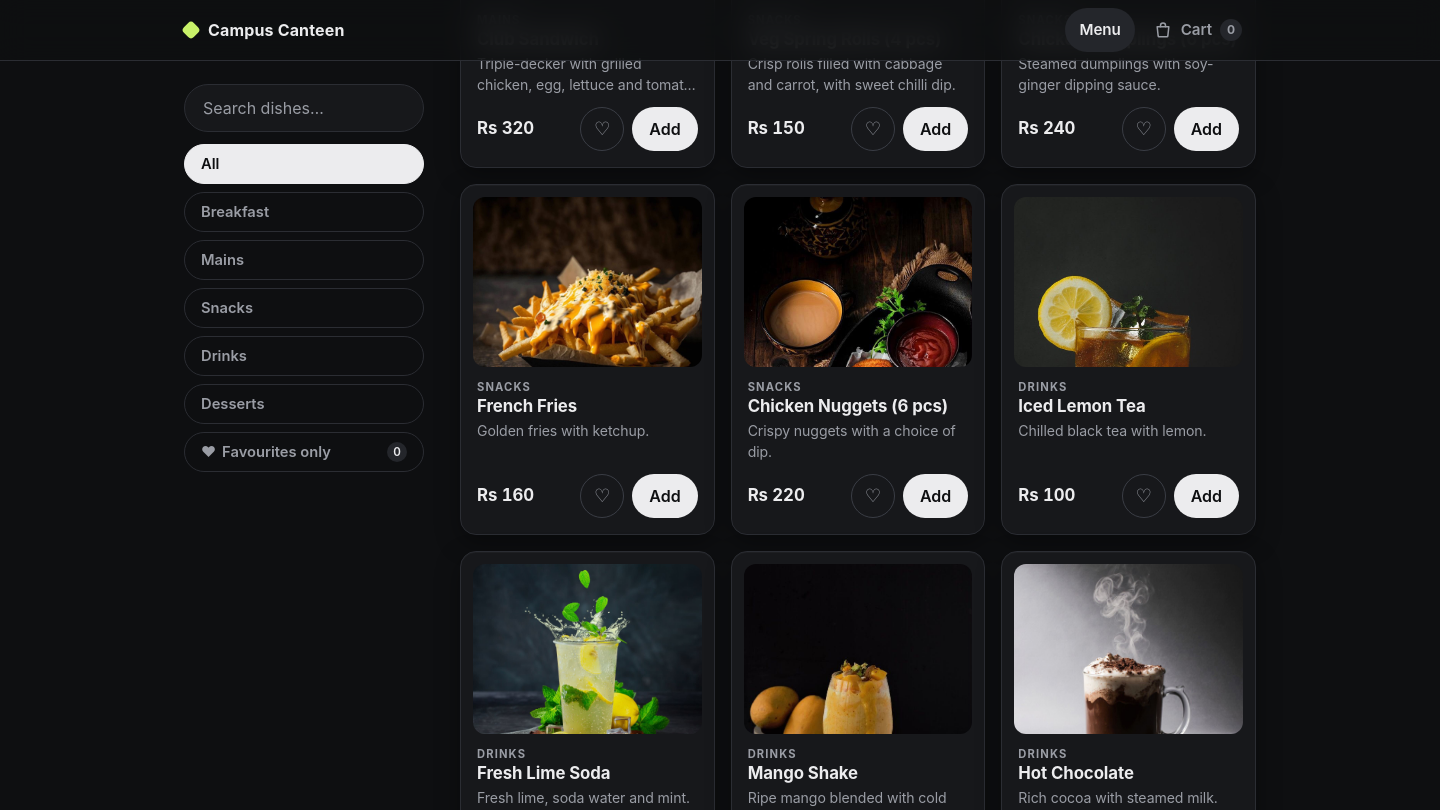
Test: cart shared through context › adds a chosen quantity from the item details screen
(page scrolled)
Click the link "Iced Lemon Tea": point(1082, 406) left=1018, top=396, right=1146, bottom=416
(page scrolled)
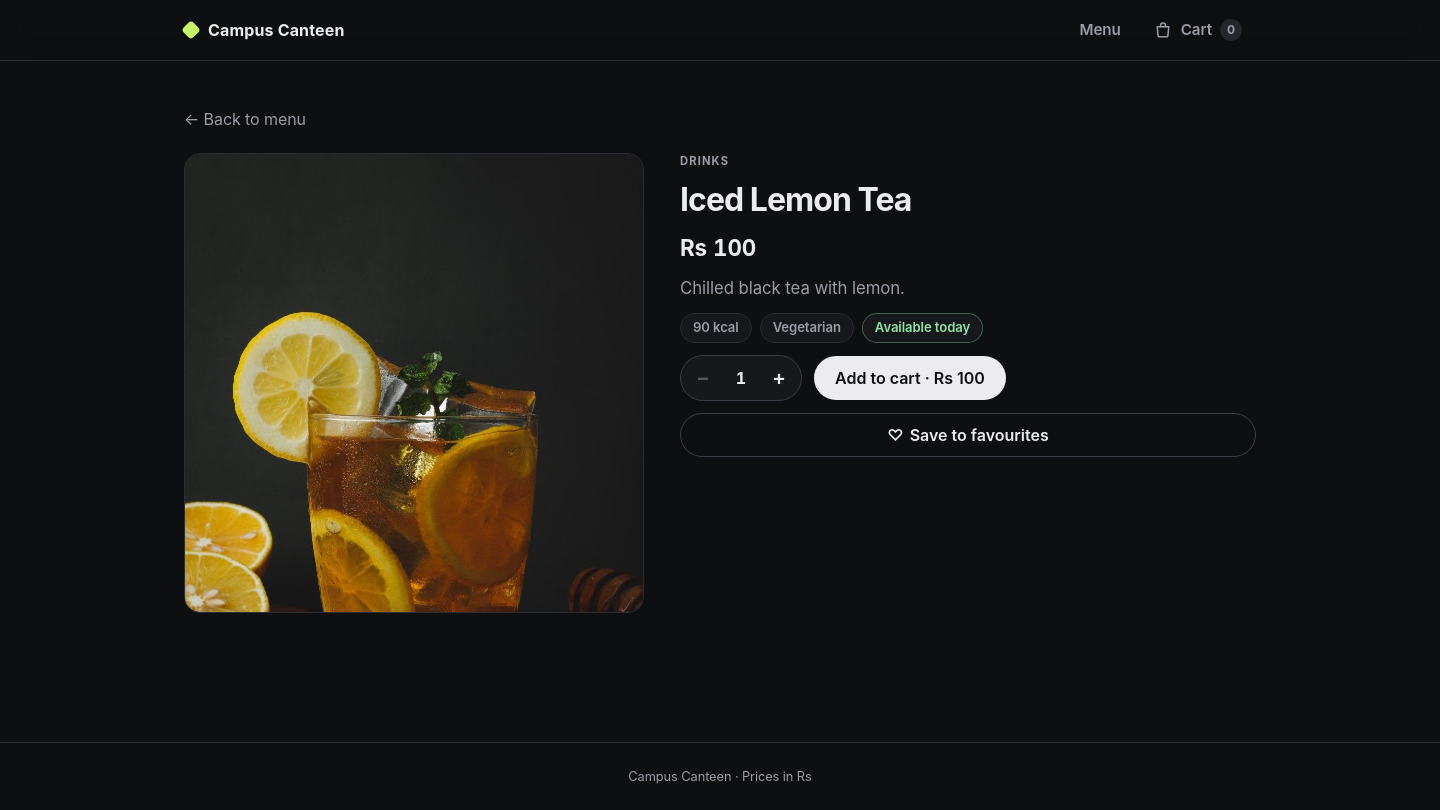
Expected: the heading "Iced Lemon Tea" is shown, left=680, top=180, right=912, bottom=219
Click the button named "Increase quantity of Iced Lemon Tea": point(779, 378) left=757, top=356, right=801, bottom=400
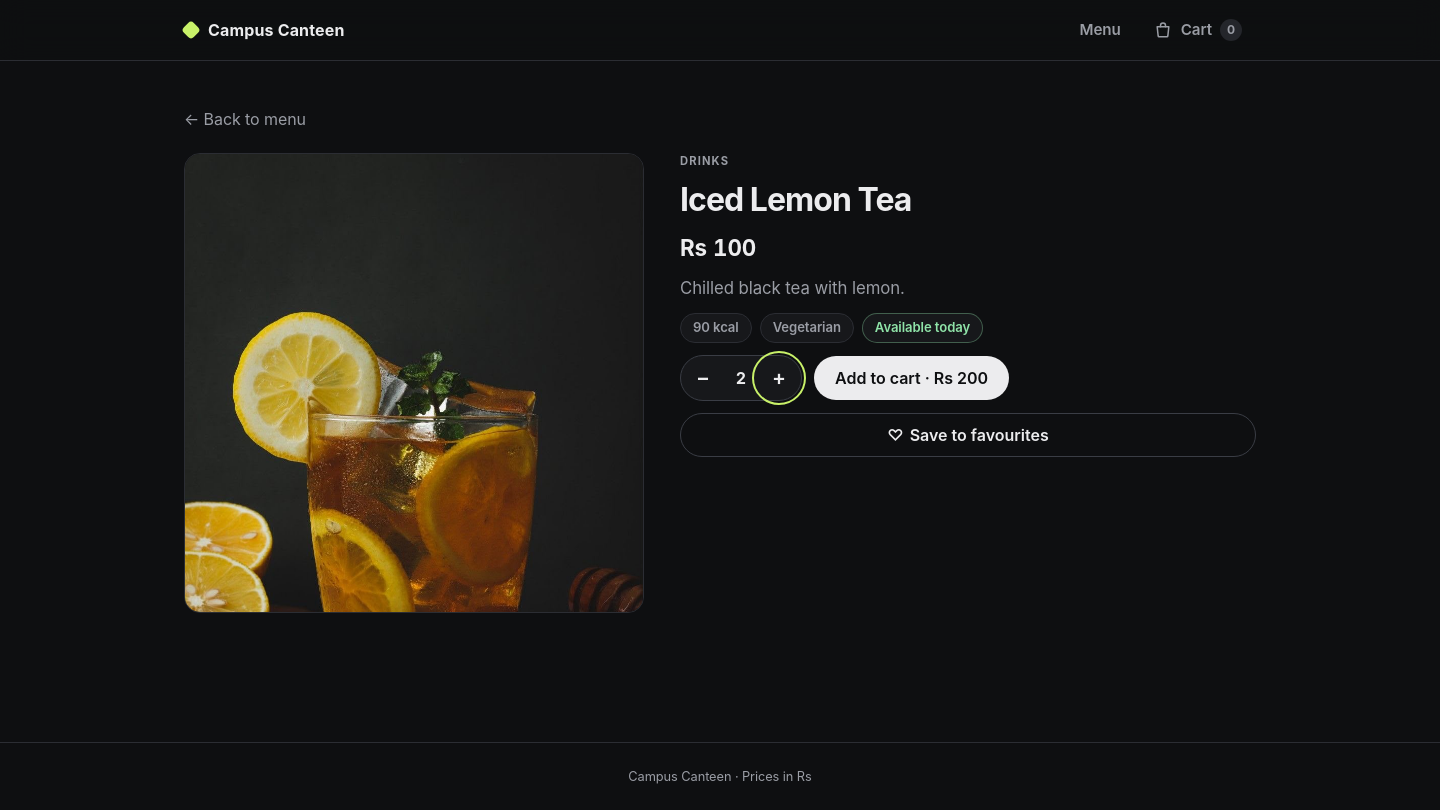
Click the button "Add to cart · Rs 200": point(912, 378) left=814, top=356, right=1009, bottom=400
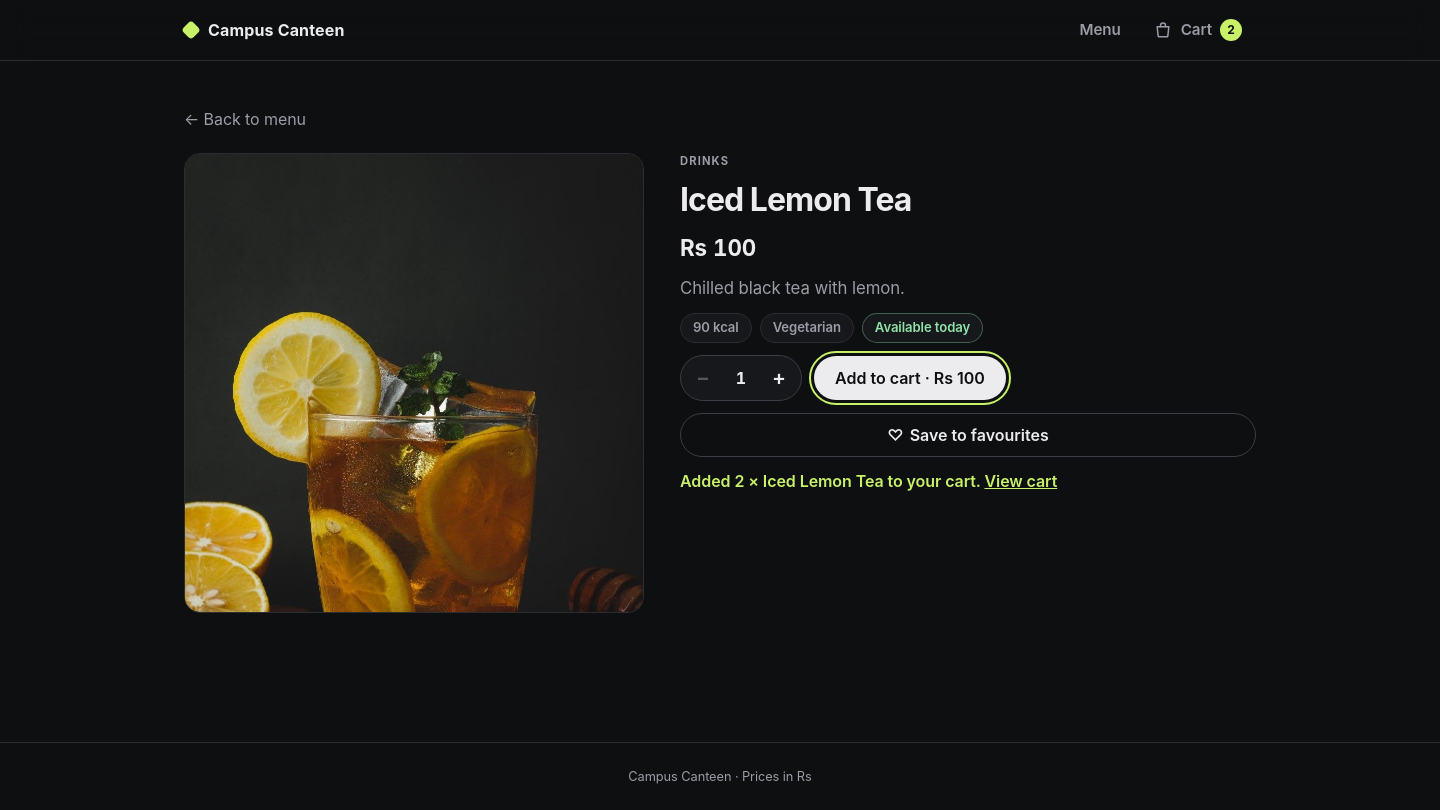
Now the text with test id "cart-count" reads "2", box left=1227, top=22, right=1235, bottom=37
Now the text "Added 2 × Iced Lemon Tea to your cart. View cart" is shown, box left=680, top=471, right=1057, bottom=491
Click the link "View cart": point(1021, 481) left=984, top=471, right=1057, bottom=491
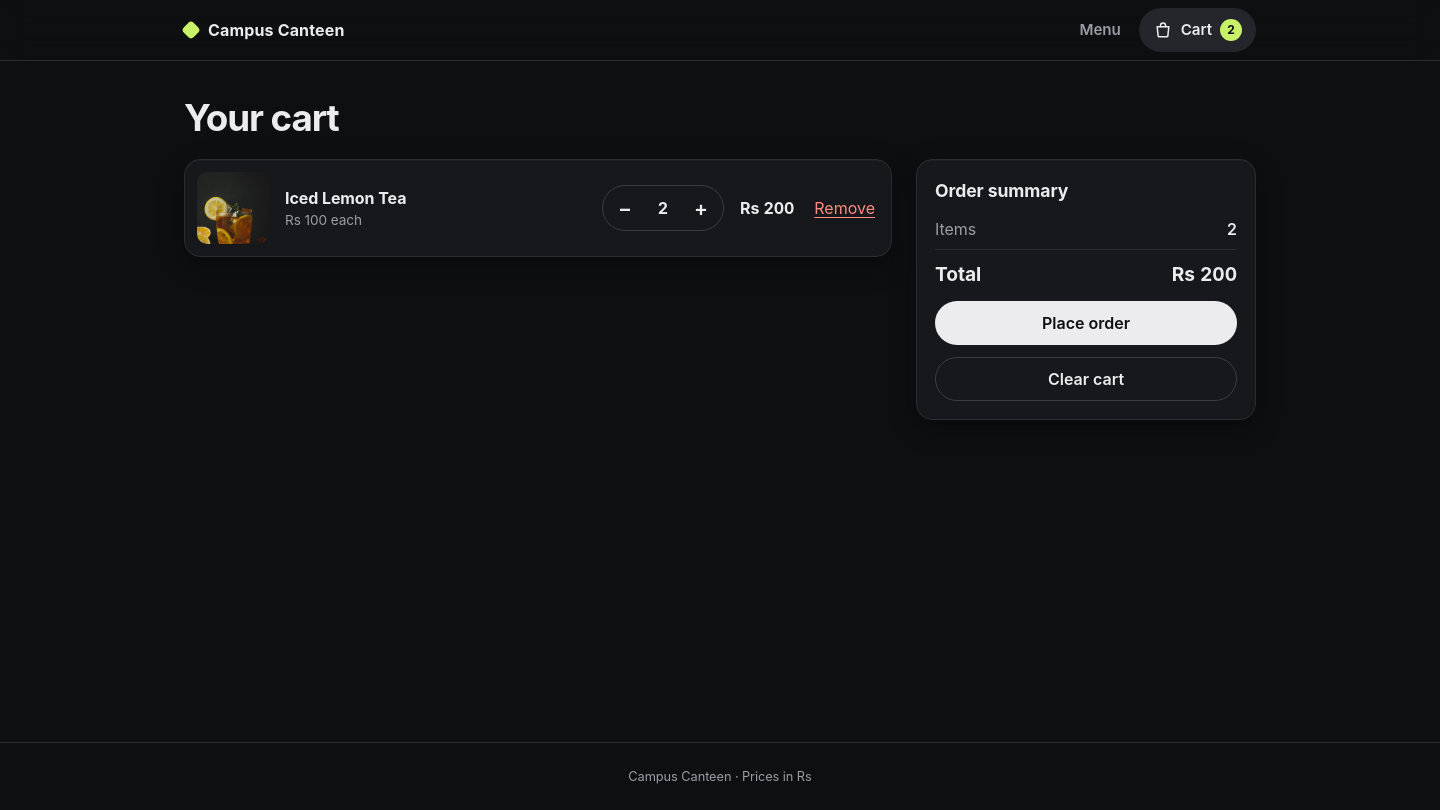
Now the text with test id "cart-total" reads "Rs 200", box left=1172, top=262, right=1237, bottom=286
